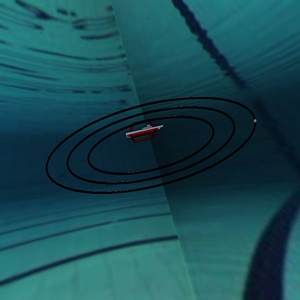circle: (37, 81, 276, 222)
submarine: (123, 117, 167, 146)
